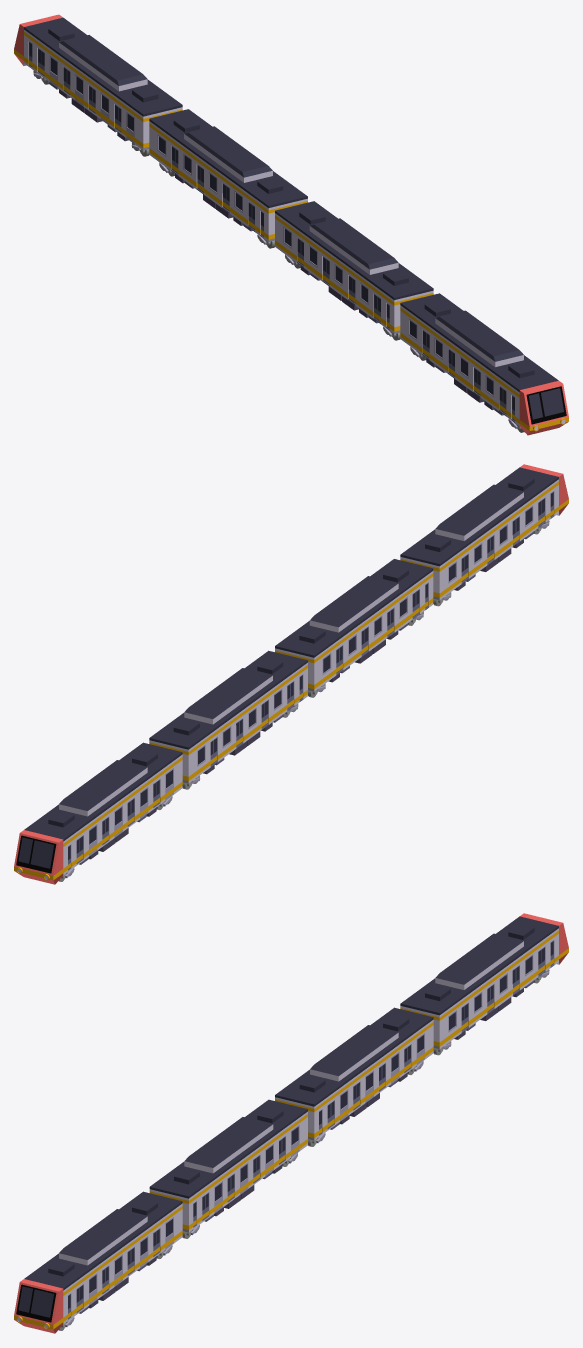
File: Kereta_1_Gray_D.fbx
3 views of the same model, one above another, from view 1: azimuth 30°, elevation 25°; view 2: azimuth 150°, elevation 25°; view 3: azimuth 330°, elevation 25° (orthographic).
Visible parts, largest first — view 1: Object; view 2: Object; view 3: Object.
Boxes of the visible parts, bbox=[...] form: Object: bbox=[14, 14, 568, 435]; Object: bbox=[14, 464, 568, 884]; Object: bbox=[14, 913, 568, 1333].
Bounding box in the file's own units: 604 × 833 × 13672.
Materials: 2 (2 with a texture image).
